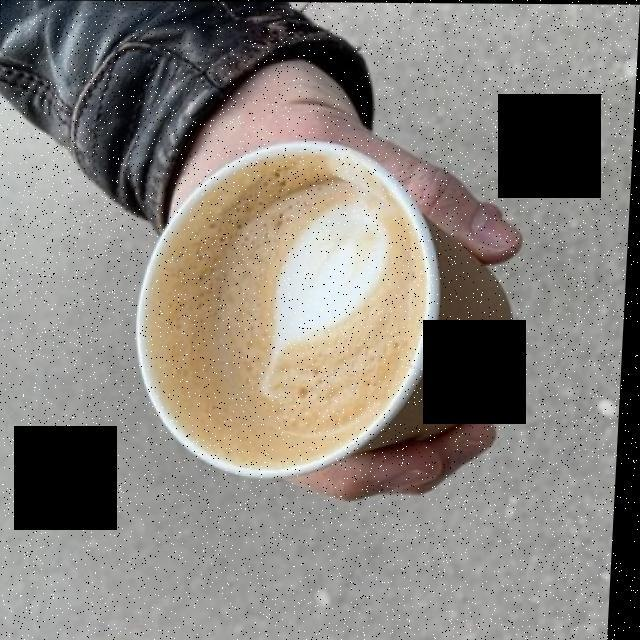cappuccino: (162, 172, 416, 459)
